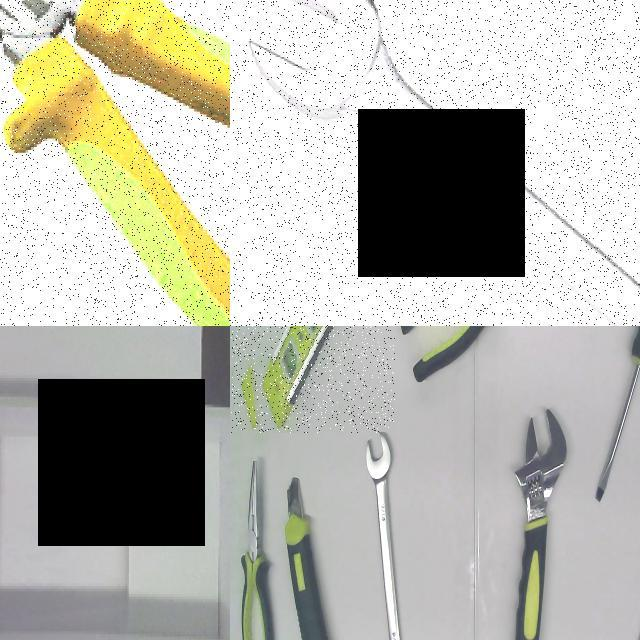estilete: (284, 478, 328, 639)
